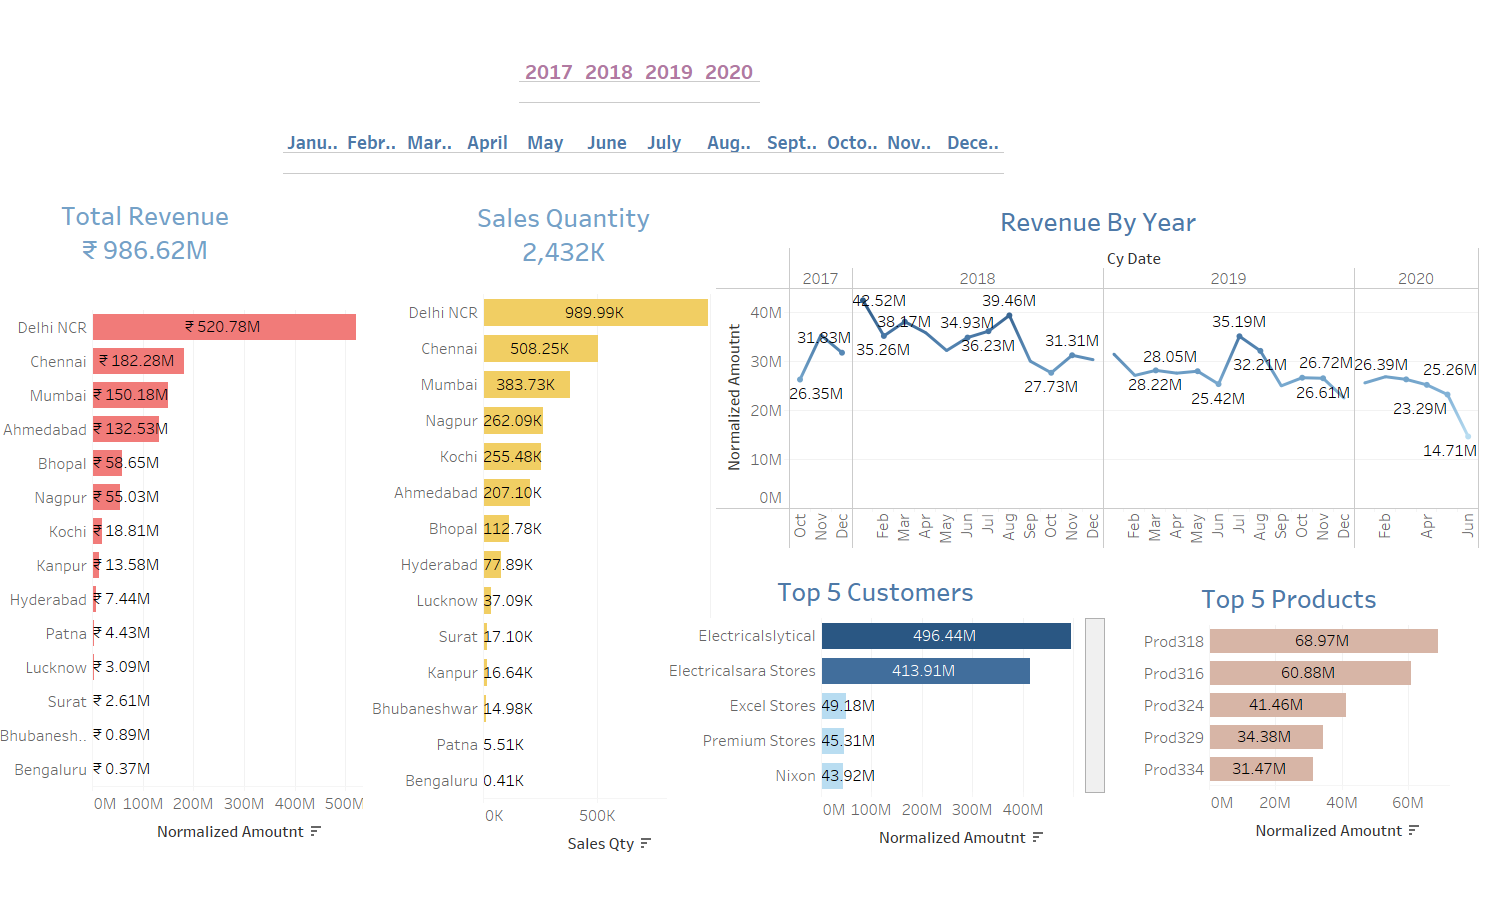

The page's visual inventory and layout, read from the dashboard file:
{"tool":"tableau","page":{"name":"Sales Analysis","canvas":[1500,900],"ordinal":0},"visuals":[{"type":"worksheet","title":"Year ","mark":"Automatic","cols":["cy_date"],"box":[519,45,259,81]},{"type":"worksheet","title":"Month","mark":"Automatic","cols":["cy_date"],"box":[283,116,765,82]},{"type":"worksheet","title":"Revenue","mark":"Automatic","box":[55,183,185,92]},{"type":"worksheet","title":"Quantity","mark":"Automatic","box":[464,185,207,102]},{"type":"worksheet","title":"Revenue By Year","mark":"Automatic","rows":["Calculation_825847602157101056"],"cols":["cy_date","cy_date"],"box":[716,198,764,351]},{"type":"worksheet","title":"Top 5 Customers","mark":"Automatic","rows":["custmer_name"],"cols":["Calculation_825847602157101056"],"box":[667,568,438,287]},{"type":"worksheet","title":"Top 5 Products","mark":"Automatic","rows":["product_code"],"cols":["Calculation_825847602157101056"],"box":[1129,575,320,287]}]}

Visuals, with their boxes in screenshot pixels (x1, y1, x2, y2), scaled from the page's 1500x900 canvas onto the 1500x900 screenshot:
"Year " worksheet: box(519, 45, 778, 126)
"Month" worksheet: box(283, 116, 1048, 198)
"Revenue" worksheet: box(55, 183, 240, 275)
"Quantity" worksheet: box(464, 185, 671, 287)
"Revenue By Year" worksheet: box(716, 198, 1480, 549)
"Top 5 Customers" worksheet: box(667, 568, 1105, 855)
"Top 5 Products" worksheet: box(1129, 575, 1449, 862)
